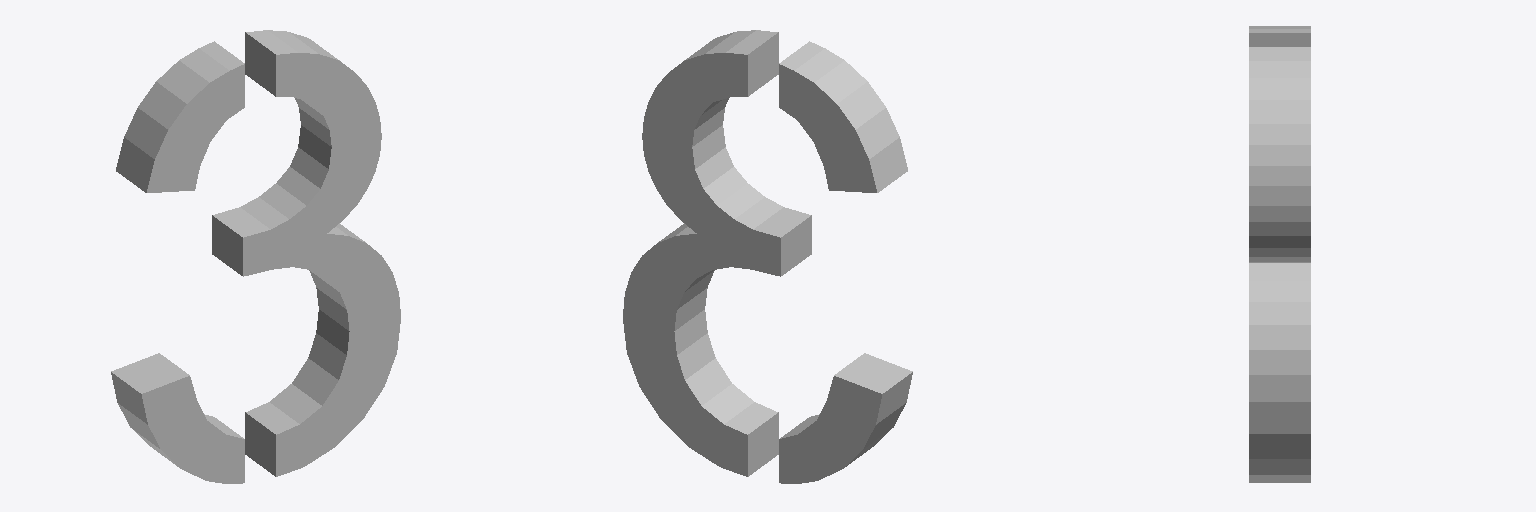
Rendered from three_3006_01.obj.
The picture shows the model from 3 angles: view 1: azimuth 30°, elevation 25°; view 2: azimuth 150°, elevation 25°; view 3: azimuth 270°, elevation 25°; orthographic projection.
Visible parts, largest first — view 1: polySurface650; view 2: polySurface650; view 3: polySurface650.
Boxes of the visible parts, x1,y1,x2,y2 form: polySurface650: [111, 30, 400, 483]; polySurface650: [623, 30, 912, 483]; polySurface650: [1249, 26, 1310, 482].
Size of the model in its own units: 0.8371 by 1.3 by 0.1719.